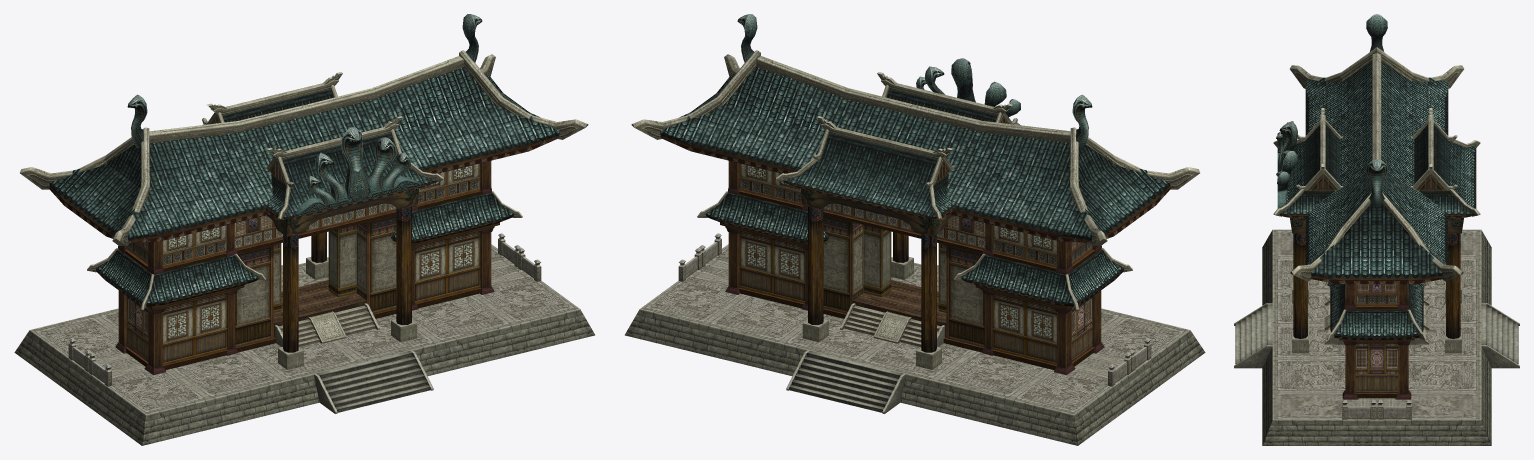
Rendered from gls_a_03.fbx.
The picture shows the model from 3 angles, left to right: view 1: azimuth 30°, elevation 25°; view 2: azimuth 150°, elevation 25°; view 3: azimuth 270°, elevation 25°; orthographic projection. The views are drawn at different scales.
Visible parts, largest first — view 1: gls_A_03, gls_A_03_01; view 2: gls_A_03, gls_A_03_01; view 3: gls_A_03, gls_A_03_01.
Boxes of the visible parts, x1,y1,x2,y2 form: gls_A_03: [14, 50, 594, 445]; gls_A_03_01: [127, 14, 482, 216]; gls_A_03: [625, 50, 1205, 445]; gls_A_03_01: [737, 14, 1092, 148]; gls_A_03: [1234, 47, 1519, 445]; gls_A_03_01: [1276, 14, 1387, 208].
Size of the model in its own units: 22.68 by 13.17 by 13.12.
